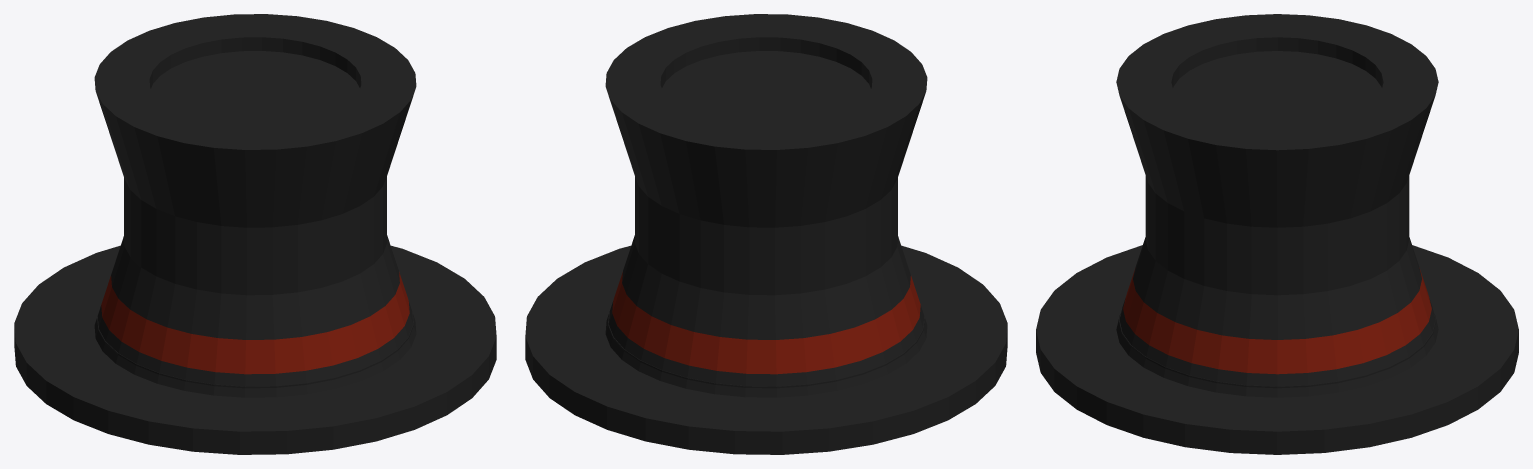
File: TopHat (1).fbx
3 views of the same model, side by side, from view 1: azimuth 30°, elevation 25°; view 2: azimuth 150°, elevation 25°; view 3: azimuth 270°, elevation 25° (orthographic).
Parts seen in each view (by area): view 1: Cylinder; view 2: Cylinder; view 3: Cylinder.
Boxes of the visible parts, <box> form: Cylinder: <box>14,14,496,454</box>; Cylinder: <box>525,14,1007,454</box>; Cylinder: <box>1036,14,1518,454</box>.
Size of the model in its own units: 200 by 124 by 200.
Materials: 1 (1 with a texture image).
